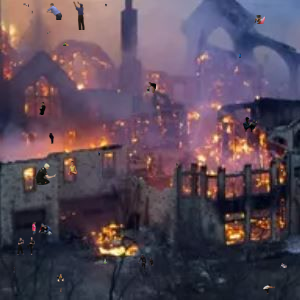Human: (30, 3, 62, 20), (35, 163, 57, 185), (72, 1, 85, 30), (17, 237, 35, 255), (137, 254, 154, 273), (32, 222, 52, 236), (243, 117, 261, 132), (39, 102, 53, 115), (68, 161, 78, 175), (263, 284, 275, 294), (146, 82, 156, 93), (254, 15, 265, 24), (56, 274, 65, 283), (49, 133, 54, 144), (280, 263, 287, 268), (13, 266, 17, 273), (63, 42, 69, 46), (23, 3, 29, 7), (103, 258, 107, 264), (47, 31, 52, 34), (60, 287, 62, 293), (105, 3, 108, 7), (176, 163, 178, 168), (281, 169, 283, 174), (98, 151, 100, 156), (239, 53, 241, 58)
